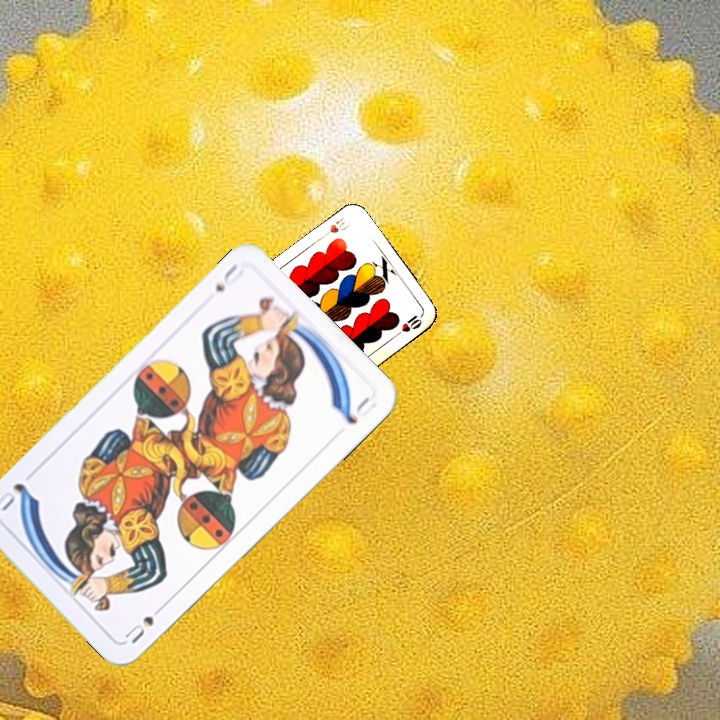H10: (316, 212, 353, 242)
SU: (120, 599, 169, 646), (210, 259, 246, 295)
